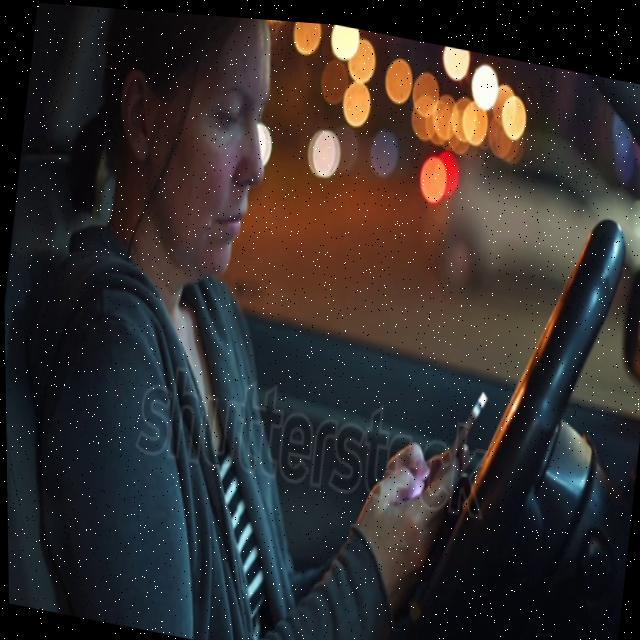PhoneCall: (420, 373, 490, 510)
